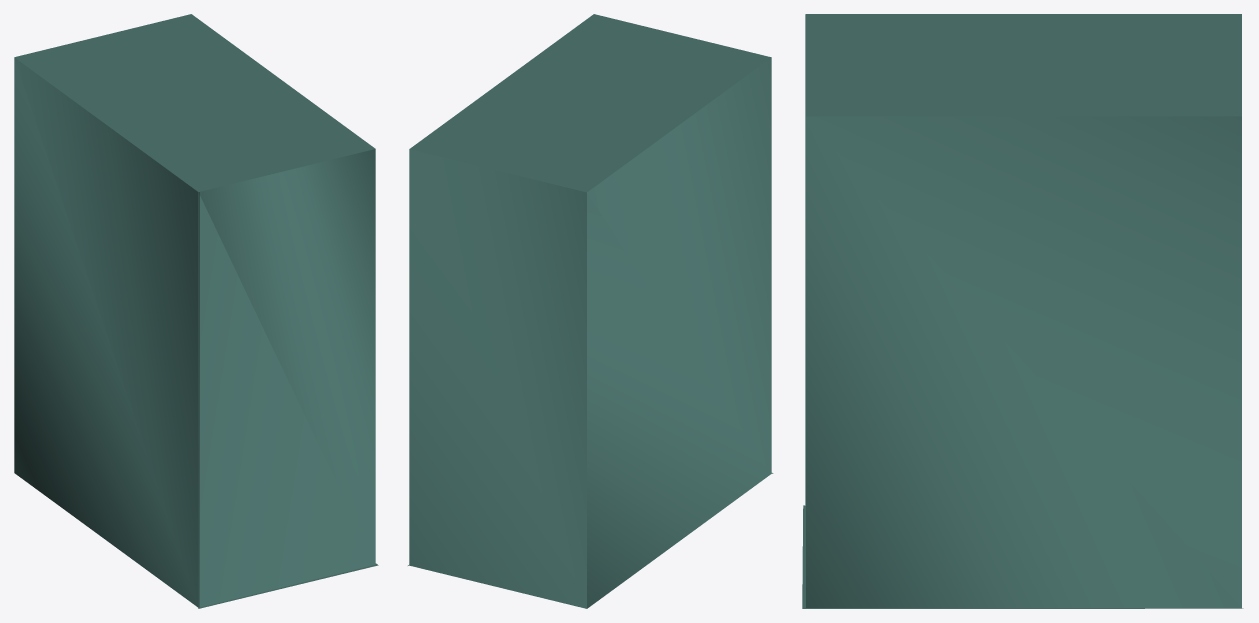
File: lasttransparentcube4.gltf
3 views of the same model, side by side, from view 1: azimuth 30°, elevation 25°; view 2: azimuth 150°, elevation 25°; view 3: azimuth 270°, elevation 25° (orthographic). The views are drawn at different scales.
Visible parts, largest first — view 1: Cube; view 2: Cube; view 3: Cube.
Part boxes in pixels (left/top/right/bottom): Cube: left=14, top=14, right=378, bottom=608; Cube: left=408, top=14, right=773, bottom=608; Cube: left=802, top=14, right=1243, bottom=608.
Size of the model in its own units: 0.2537 by 0.56 by 0.4566.
